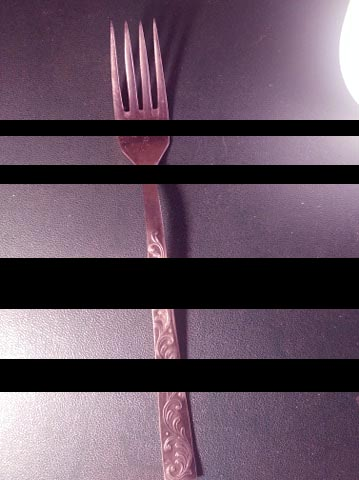Widelec: (102, 12, 174, 166)
